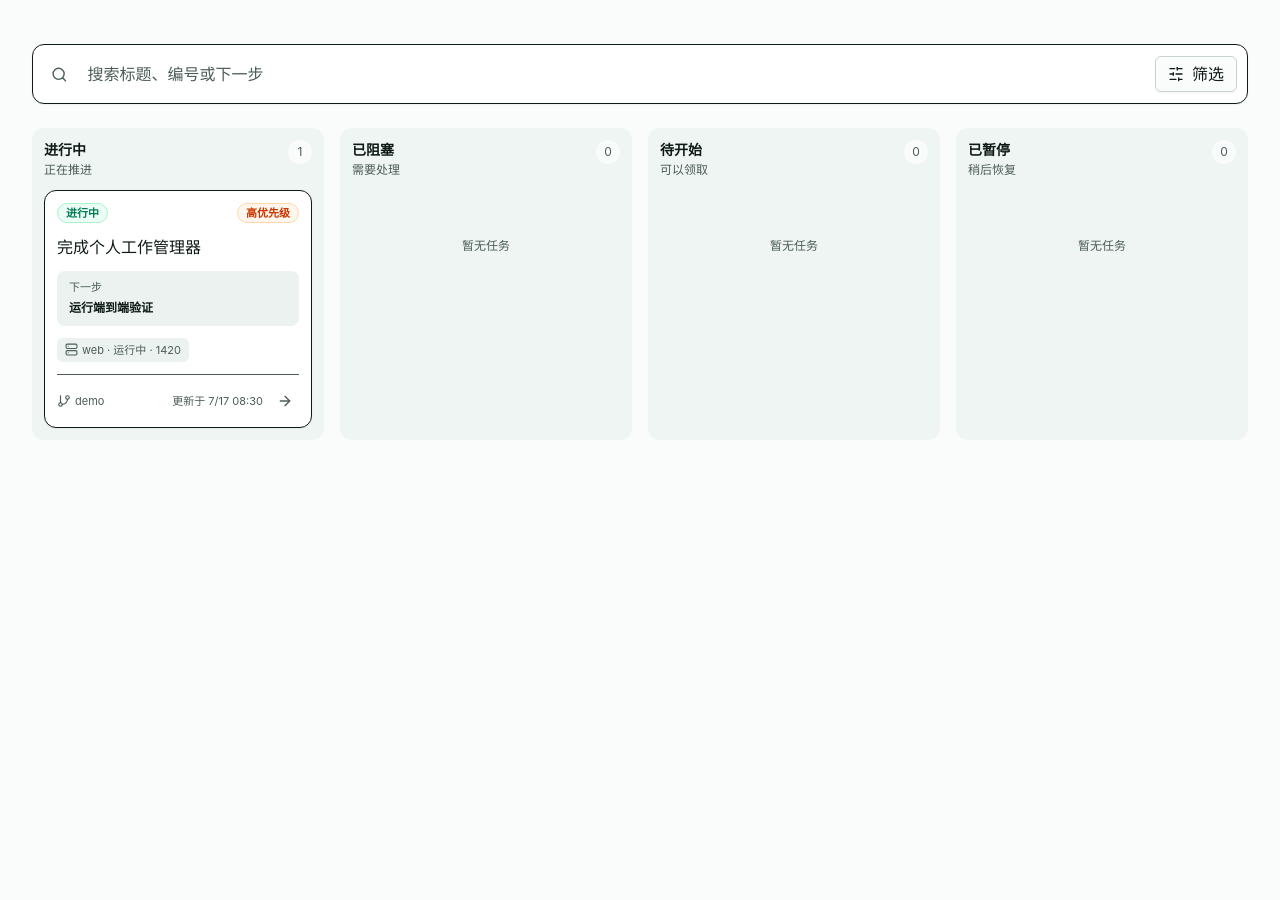
桌面端任务流 › 可通过状态筛选查看完成任务
Click the button "筛选": (1196, 74) top-left (1155, 56), bottom-right (1237, 92)
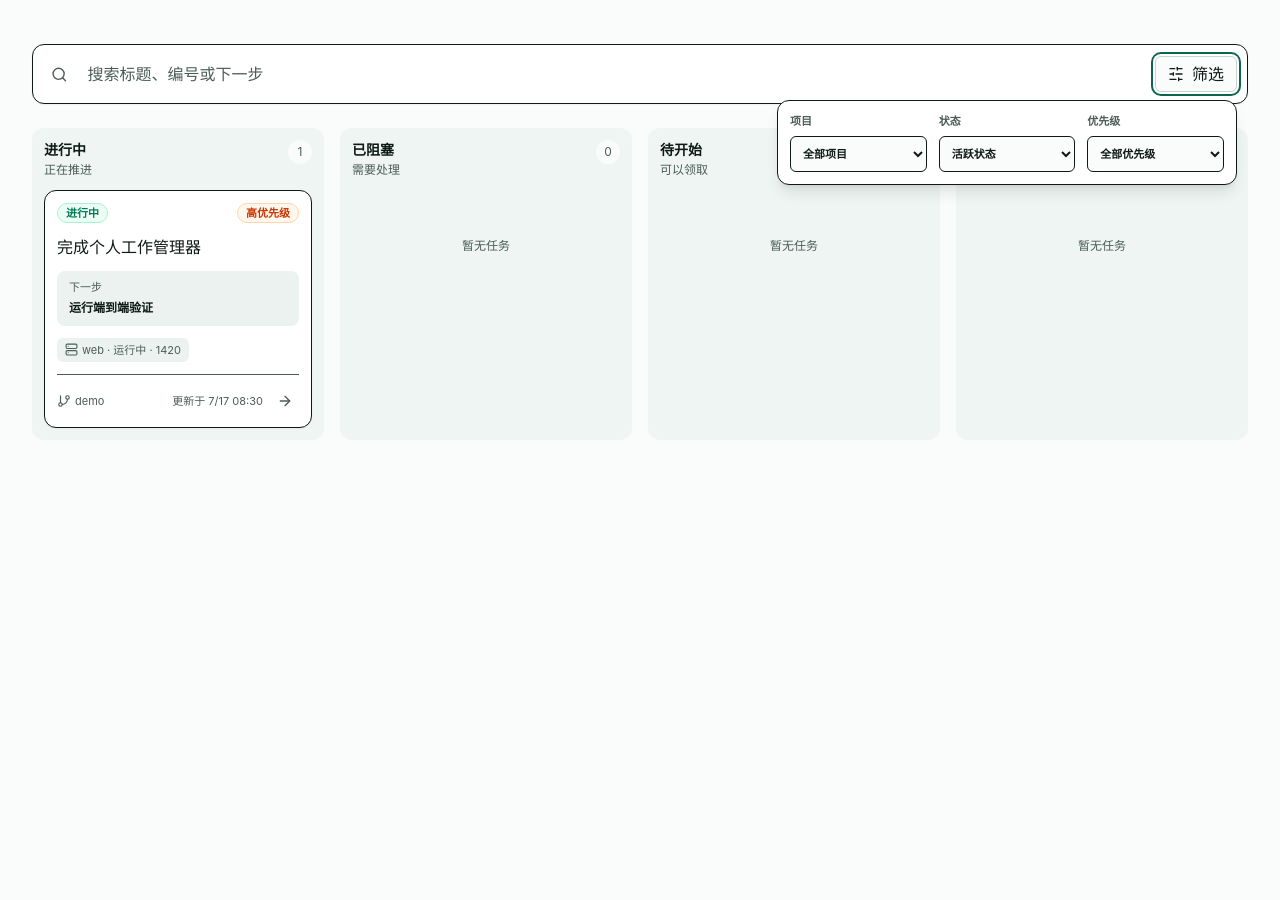
Select "已完成" in the dropdown named "按状态筛选": (1007, 154) top-left (939, 136), bottom-right (1075, 172)
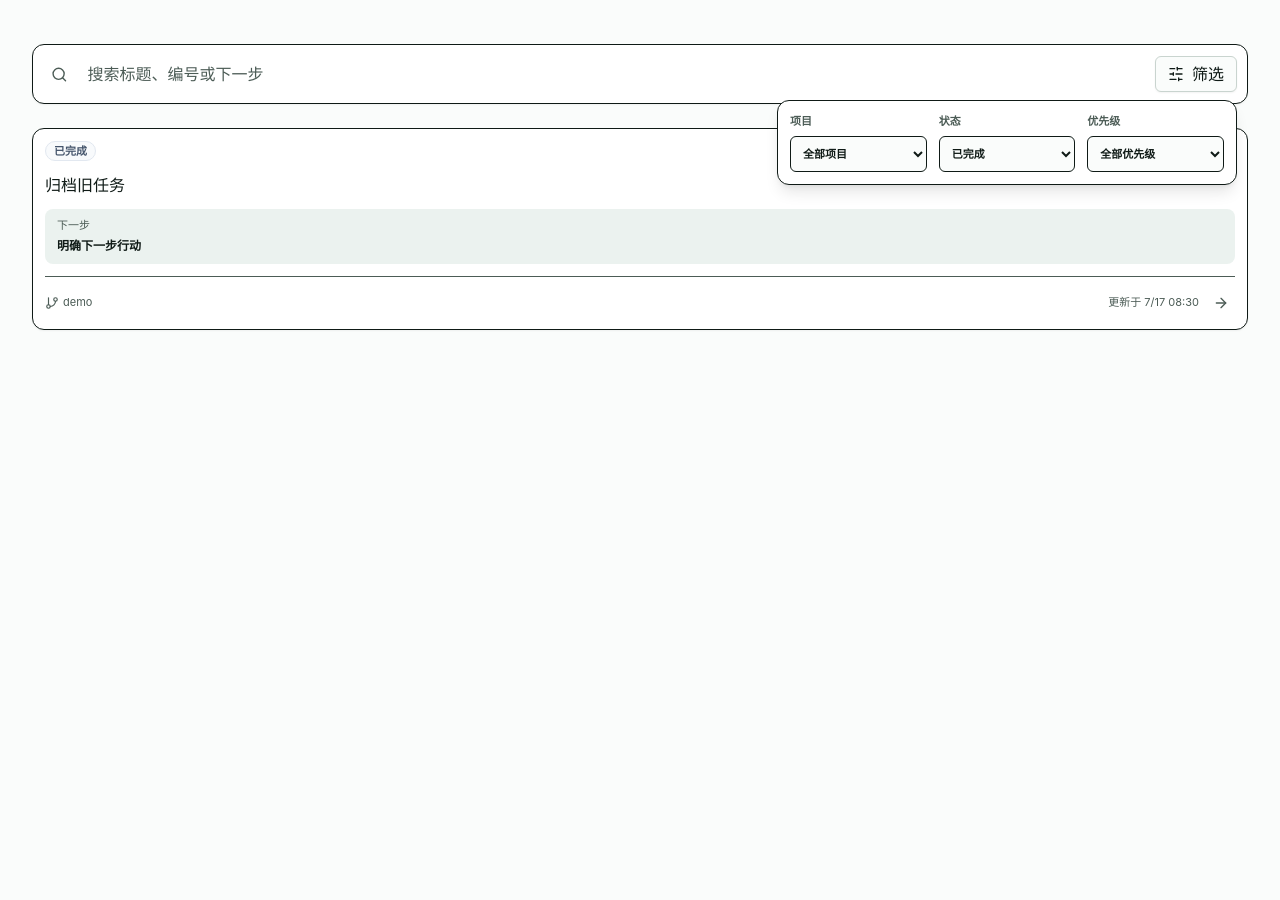
Check: the button "归档旧任务" is shown, box top-left (45, 173), bottom-right (1235, 197)
Check: the button "完成个人工作管理器" is gone
